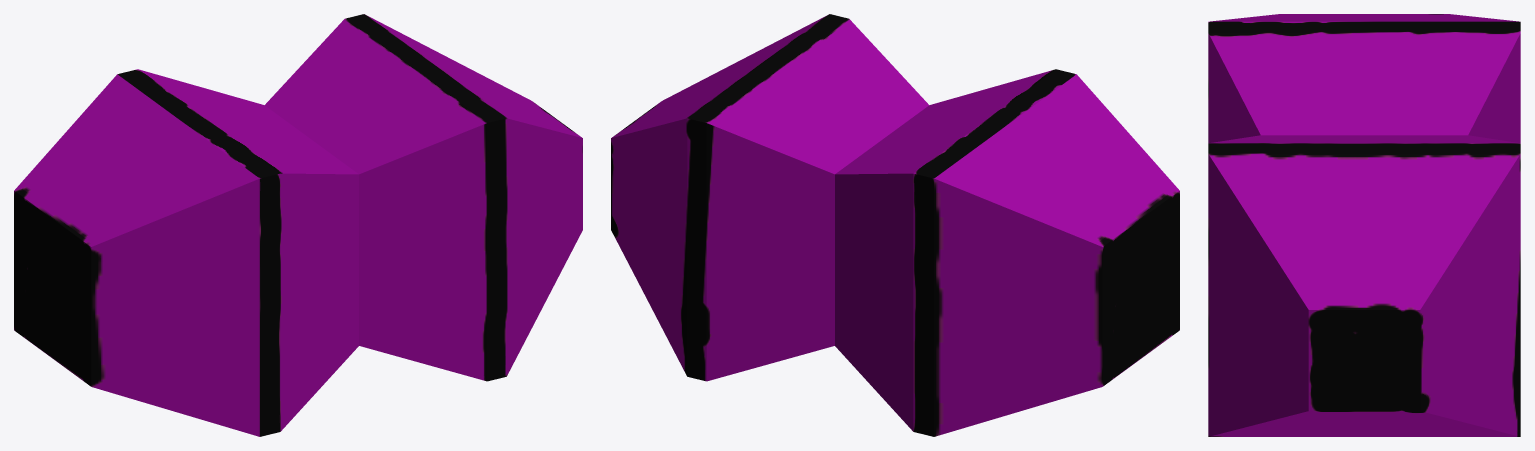
The model's file is MagentaObject.fbx.
3 renders of one model, left to right at view 1: azimuth 30°, elevation 25°; view 2: azimuth 150°, elevation 25°; view 3: azimuth 270°, elevation 25°, orthographic. The views are drawn at different scales.
Parts seen in each view (by area): view 1: Cube; view 2: Cube; view 3: Cube.
Boxes of the visible parts, box(x1,y1,x2,y2) form: Cube: box(14, 14, 582, 436); Cube: box(611, 14, 1179, 436); Cube: box(1208, 14, 1520, 436).
Size of the model in its own units: 773 by 378 by 378.
